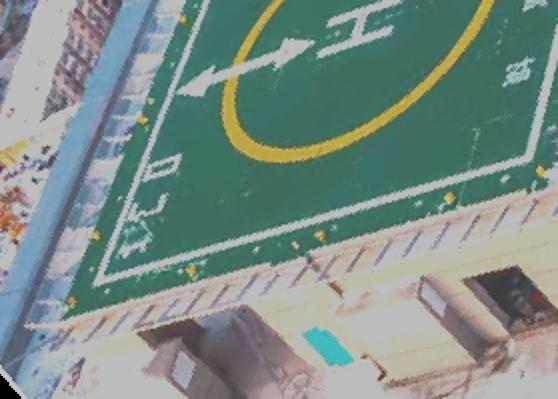Apron: (216, 1, 508, 166)
